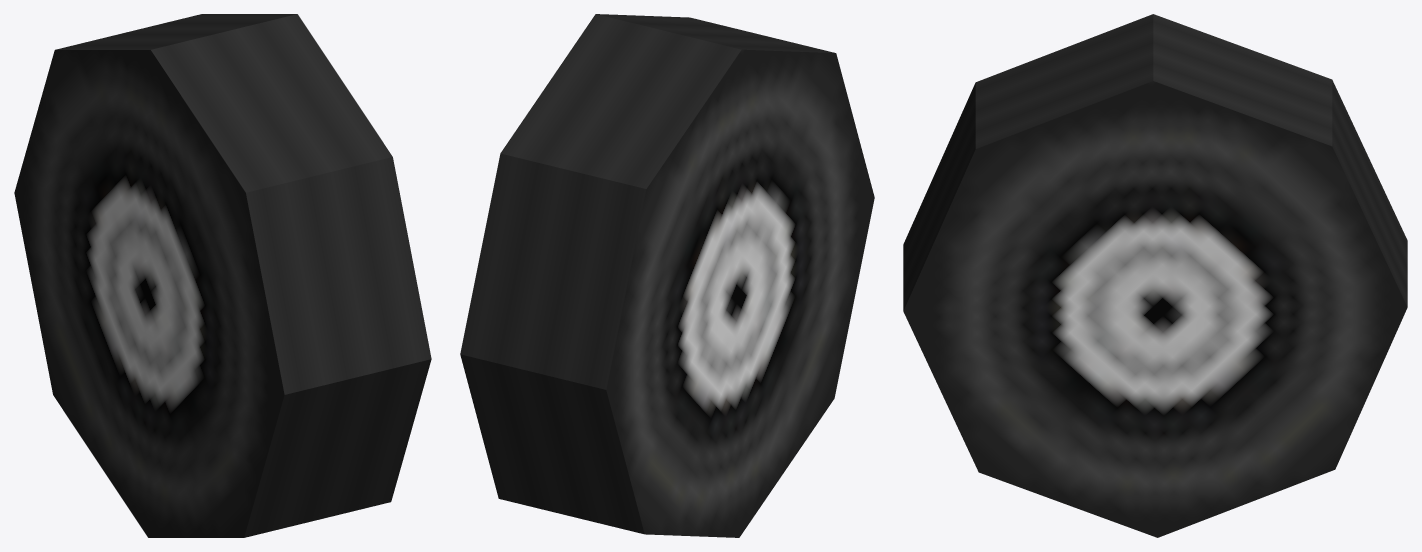
The model's file is wheel_front_right.obj.
3 views of the same model, side by side, from view 1: azimuth 30°, elevation 25°; view 2: azimuth 150°, elevation 25°; view 3: azimuth 270°, elevation 25° (orthographic). The views are drawn at different scales.
Parts seen in each view (by area): view 1: wheel_front_right; view 2: wheel_front_right; view 3: wheel_front_right.
Boxes of the visible parts, x1,y1,x2,y2 form: wheel_front_right: (14,14,431,537); wheel_front_right: (460,14,874,537); wheel_front_right: (903,14,1407,537).
Bounding box in the file's own units: 0.3187 × 1.01 × 1.01.
1 material, 1 textured.
